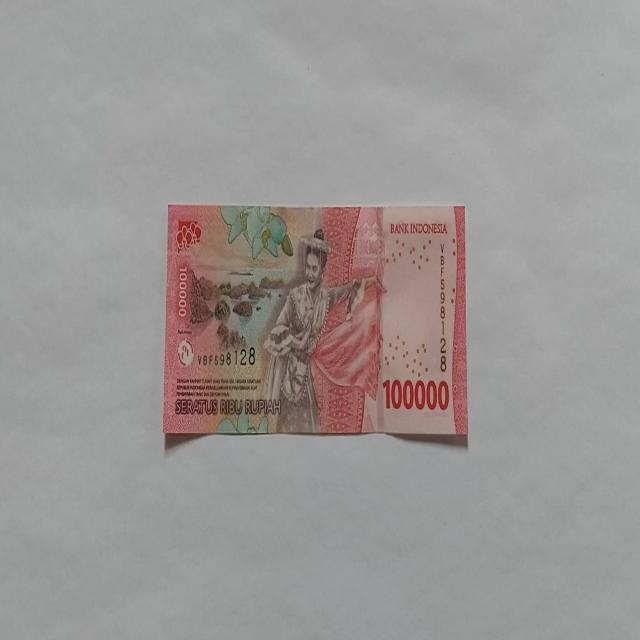seratus ribu rupiah: (162, 203, 468, 439), (260, 228, 368, 431)
